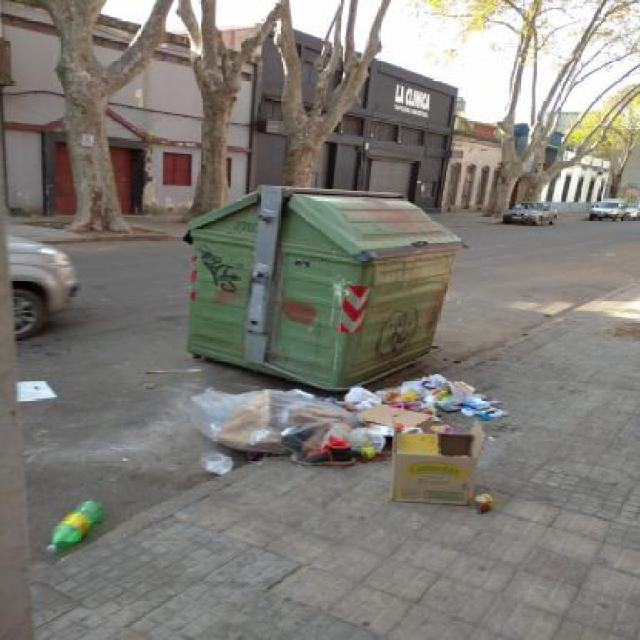garbage: (12, 363, 584, 572)
